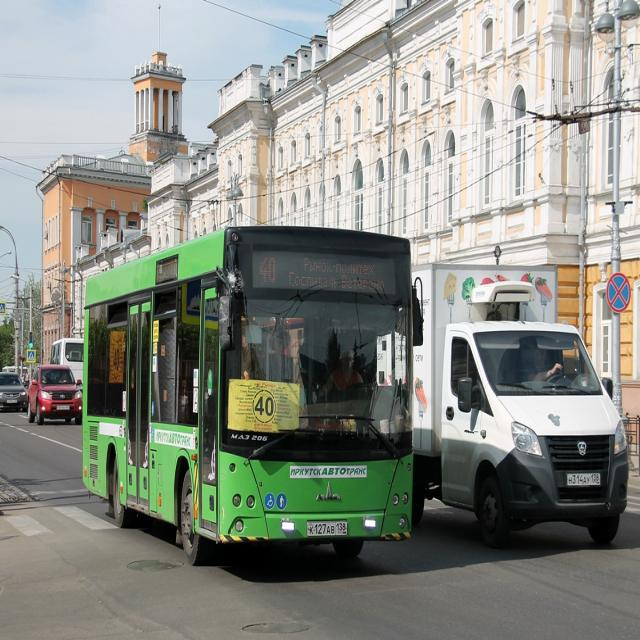number-of-bus: (254, 393, 276, 422)
